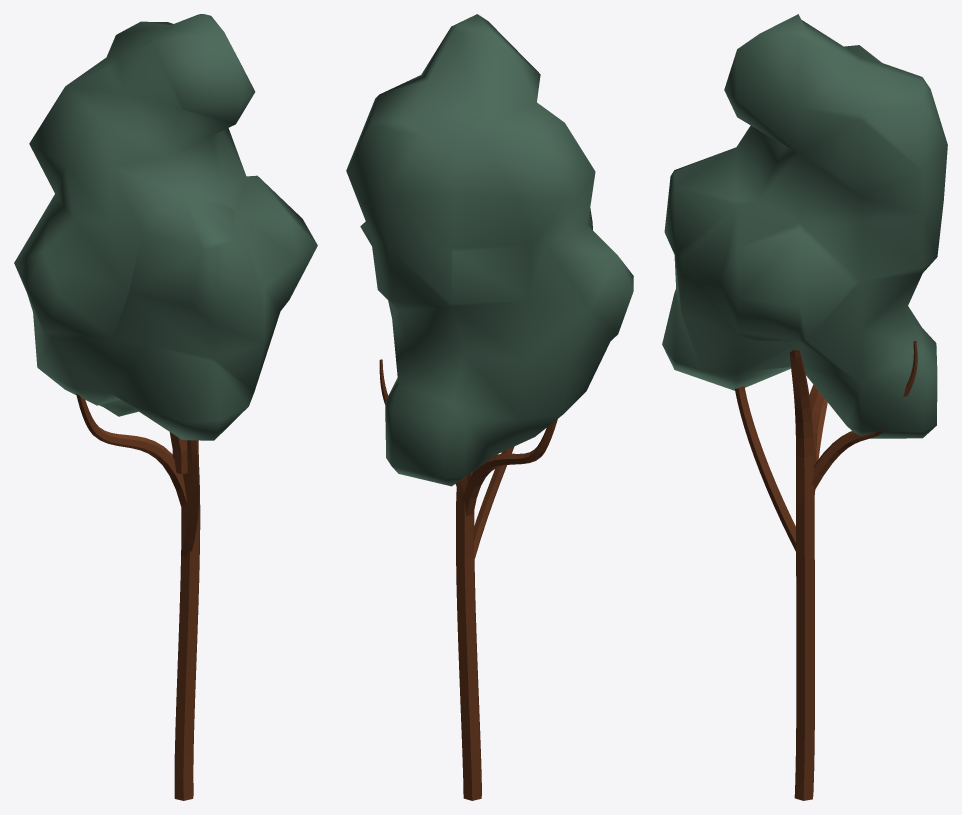
The model's file is arbre4_v2.fbx.
3 views of the same model, side by side, from view 1: azimuth 30°, elevation 25°; view 2: azimuth 150°, elevation 25°; view 3: azimuth 270°, elevation 25° (orthographic).
Parts seen in each view (by area): view 1: Mball, BezierCurve; view 2: Mball, BezierCurve; view 3: Mball, BezierCurve.
Part boxes in pixels (bbox=[...]): Mball: bbox=[14, 14, 317, 440]; BezierCurve: bbox=[76, 393, 200, 800]; Mball: bbox=[346, 14, 633, 486]; BezierCurve: bbox=[379, 359, 557, 800]; Mball: bbox=[662, 14, 947, 438]; BezierCurve: bbox=[735, 341, 917, 800].
Bounding box in the file's own units: 3249 × 8760 × 2926.
